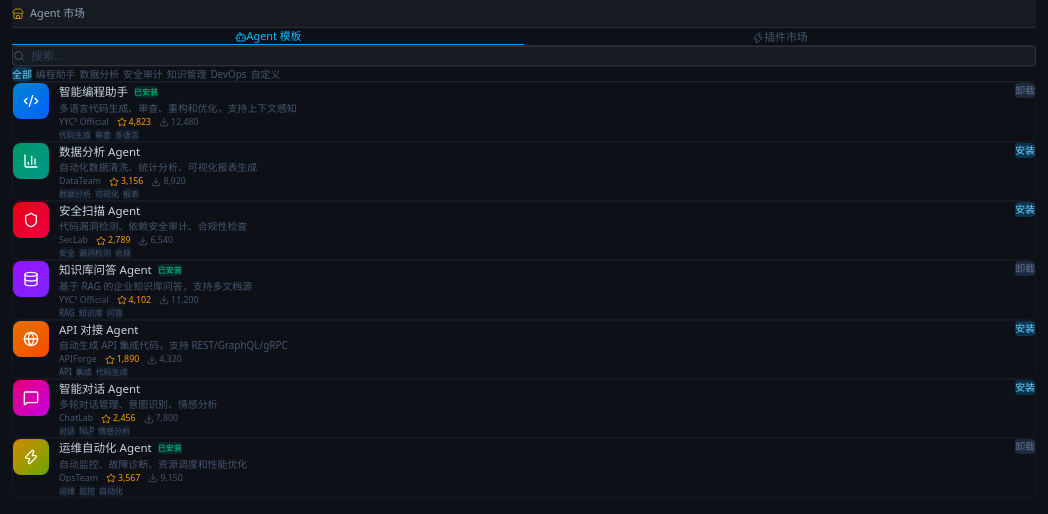
Test case: AgentMarket › 点击安装按钮切换安装状态
The width and height of the screenshot is (1048, 514).
# 4 个未安装模板各有「安装」按钮，取第一个点击
Click the button "安装" in the row of "数据分析 Agent" at (1025, 150), box [1015,143,1035,158]
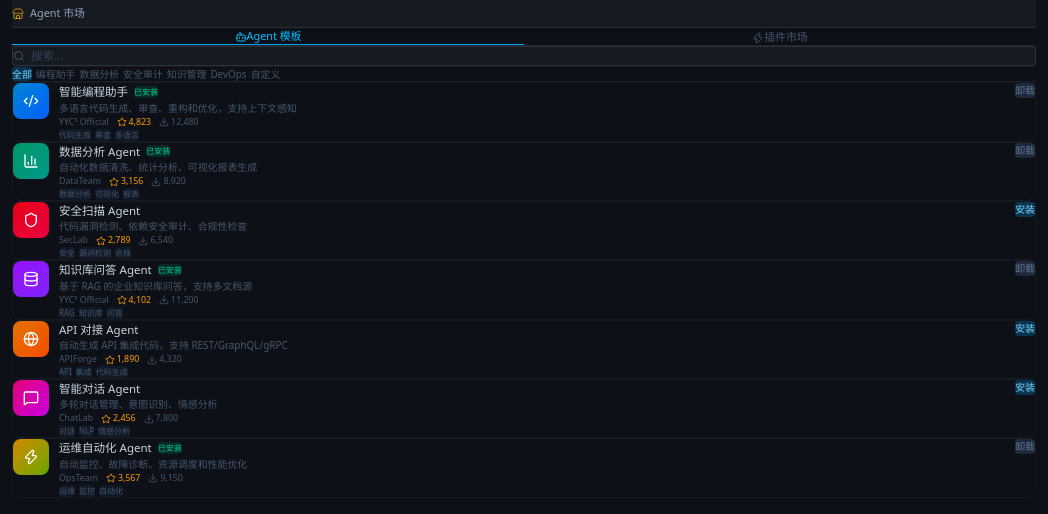
Expected: the number of buttons "卸载" is 4, [1015,84,1035,98]; [1015,143,1035,158]; [1015,261,1035,276]; [1015,439,1035,454]
Now the text "已安装" is shown 4 times, box [134,86,158,98]; [146,145,170,157]; [158,264,182,276]; [158,442,182,454]
